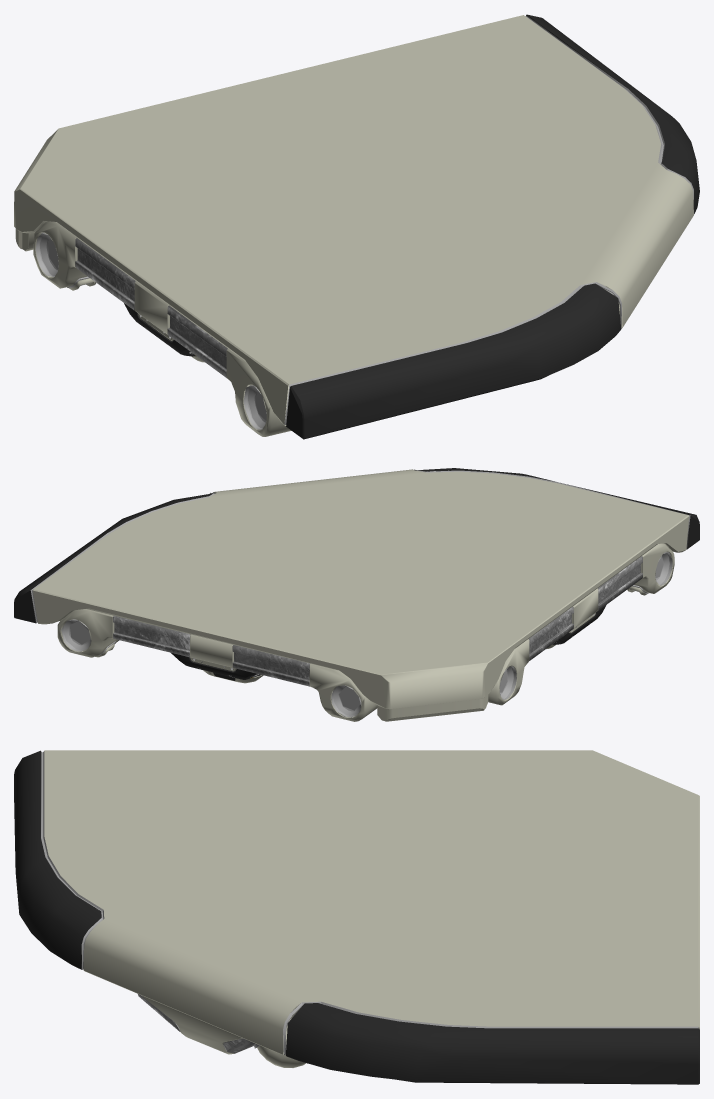
File: roof_corridor_corner.glb
The picture shows the model from 3 angles, top to bottom: view 1: azimuth 30°, elevation 25°; view 2: azimuth 150°, elevation 25°; view 3: azimuth 270°, elevation 25°; orthographic projection. The views are drawn at different scales.
Visible parts, largest first — view 1: Roff_Corridor_Corner; view 2: Roff_Corridor_Corner; view 3: Roff_Corridor_Corner.
Part boxes in pixels (box(x1,y1,x2,y2)): Roff_Corridor_Corner: box(14, 14, 699, 439); Roff_Corridor_Corner: box(14, 468, 699, 721); Roff_Corridor_Corner: box(14, 750, 699, 1084).
Bounding box in the file's own units: 4.83 × 0.7695 × 4.83.
10 materials, 1 textured.
